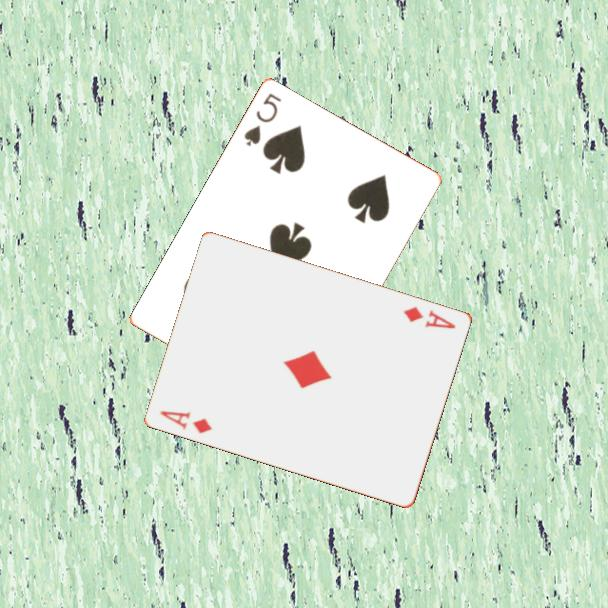d01: (400, 303, 459, 332), (157, 407, 215, 436)
s05: (240, 90, 284, 150)
